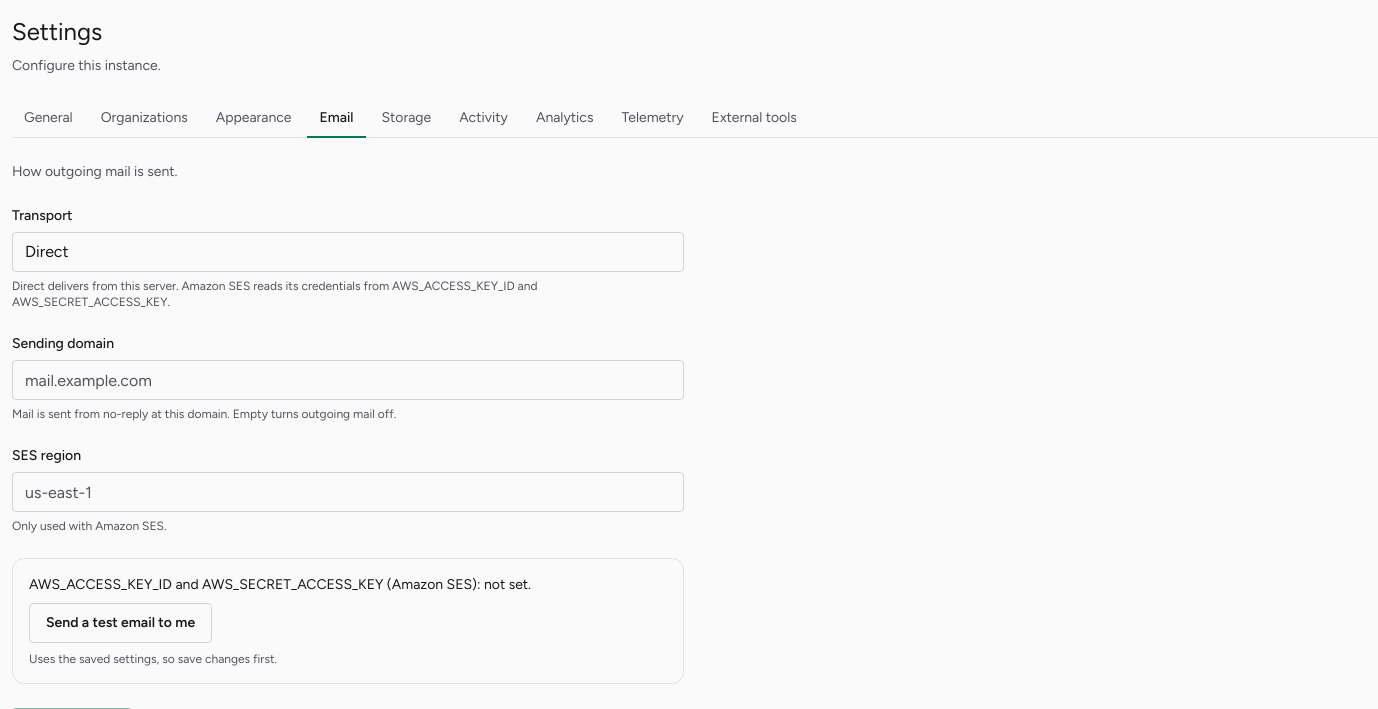
Scenario: InfraSettingsPage › reports whether credentials exist without showing them, and runs the tests
The width and height of the screenshot is (1378, 709).
Click the button "Send a test email to me" at (121, 623), box [29,603,212,643]
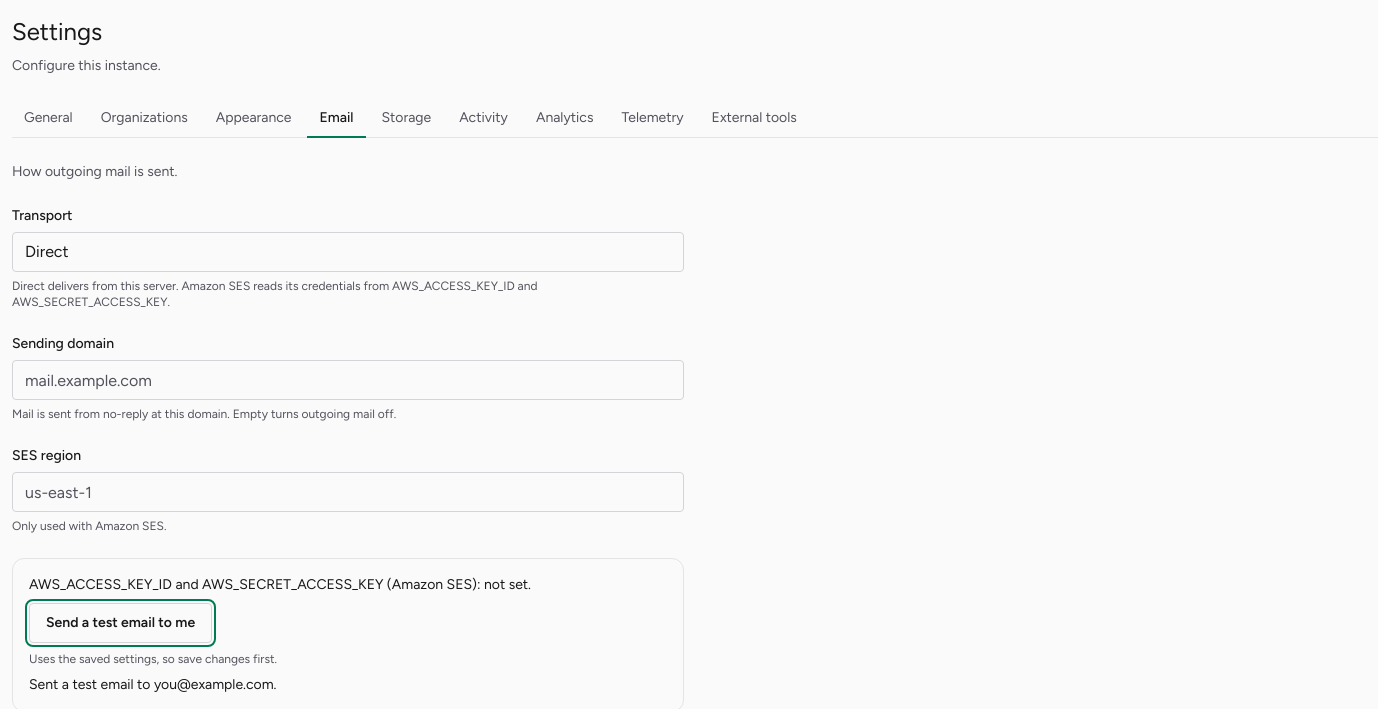
Expected: the message reads "Sent a test email to you@example.com.", [29,676,276,693]
